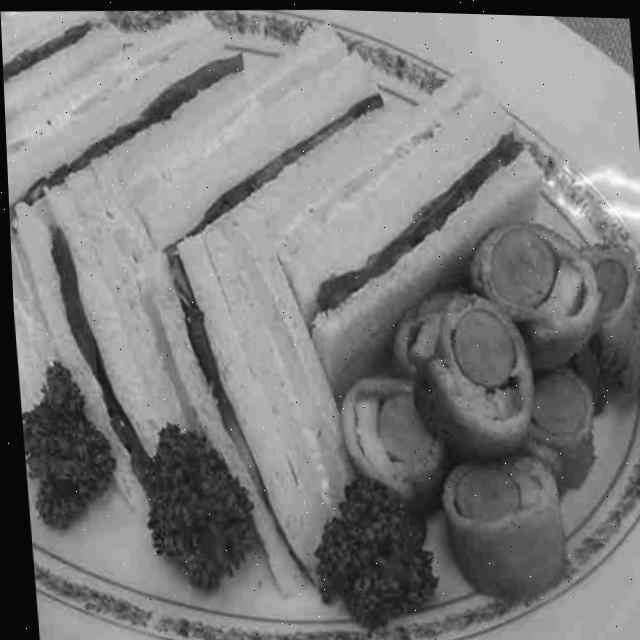三明治: (0, 0, 351, 556)
